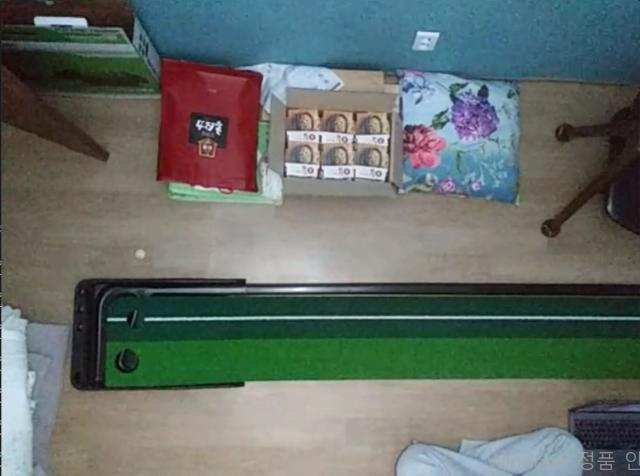golf_ball: (133, 247, 147, 262)
green_zone: (104, 296, 639, 385)
hole: (114, 349, 140, 374), (126, 309, 145, 329)
